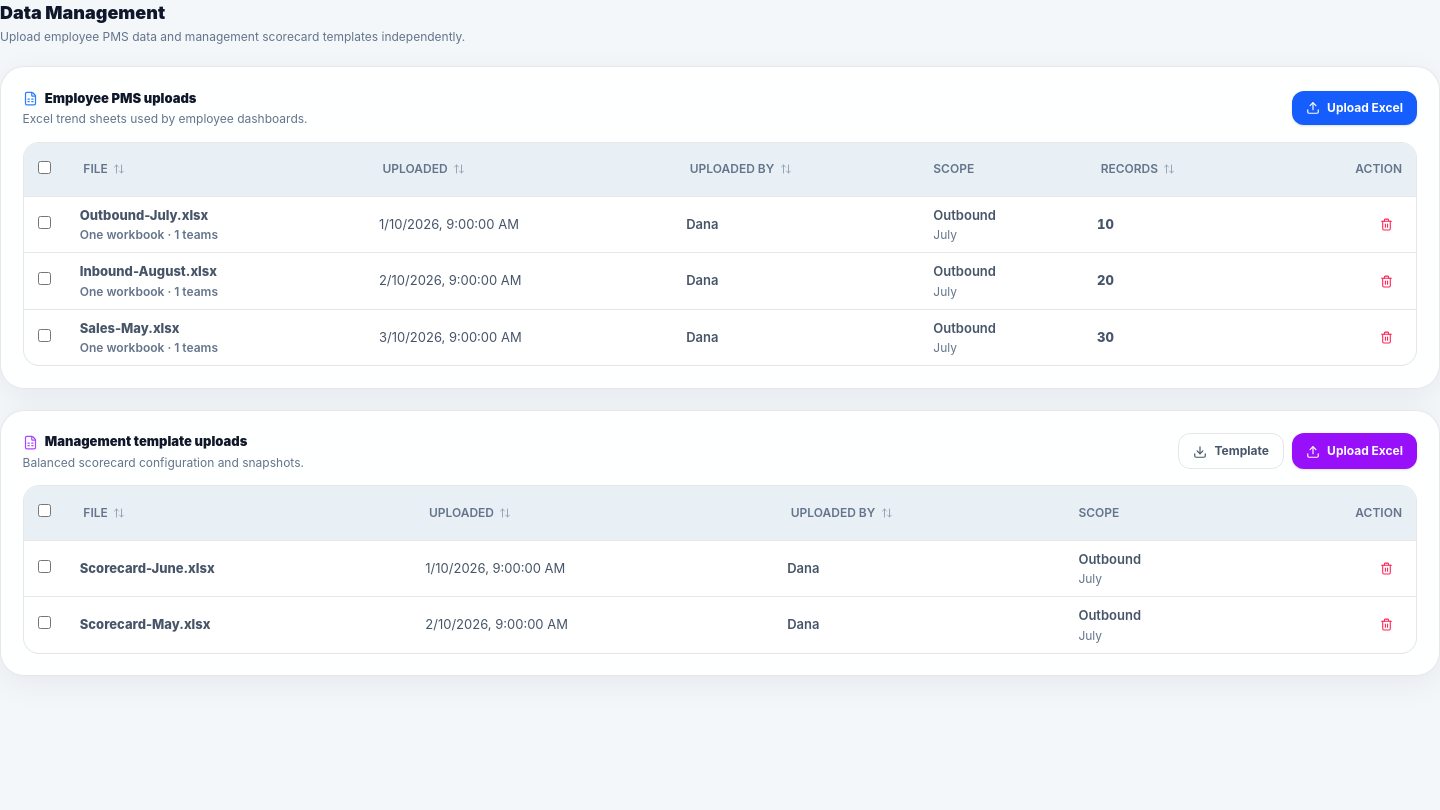
DataManagementPanel batch delete › shows a full-success notice with the count, clears the selection and reloads both lists
This screenshot has width=1440, height=810.
Click the checkbox named "Select Outbound-July.xlsx" at (44, 222), box [38, 216, 51, 229]
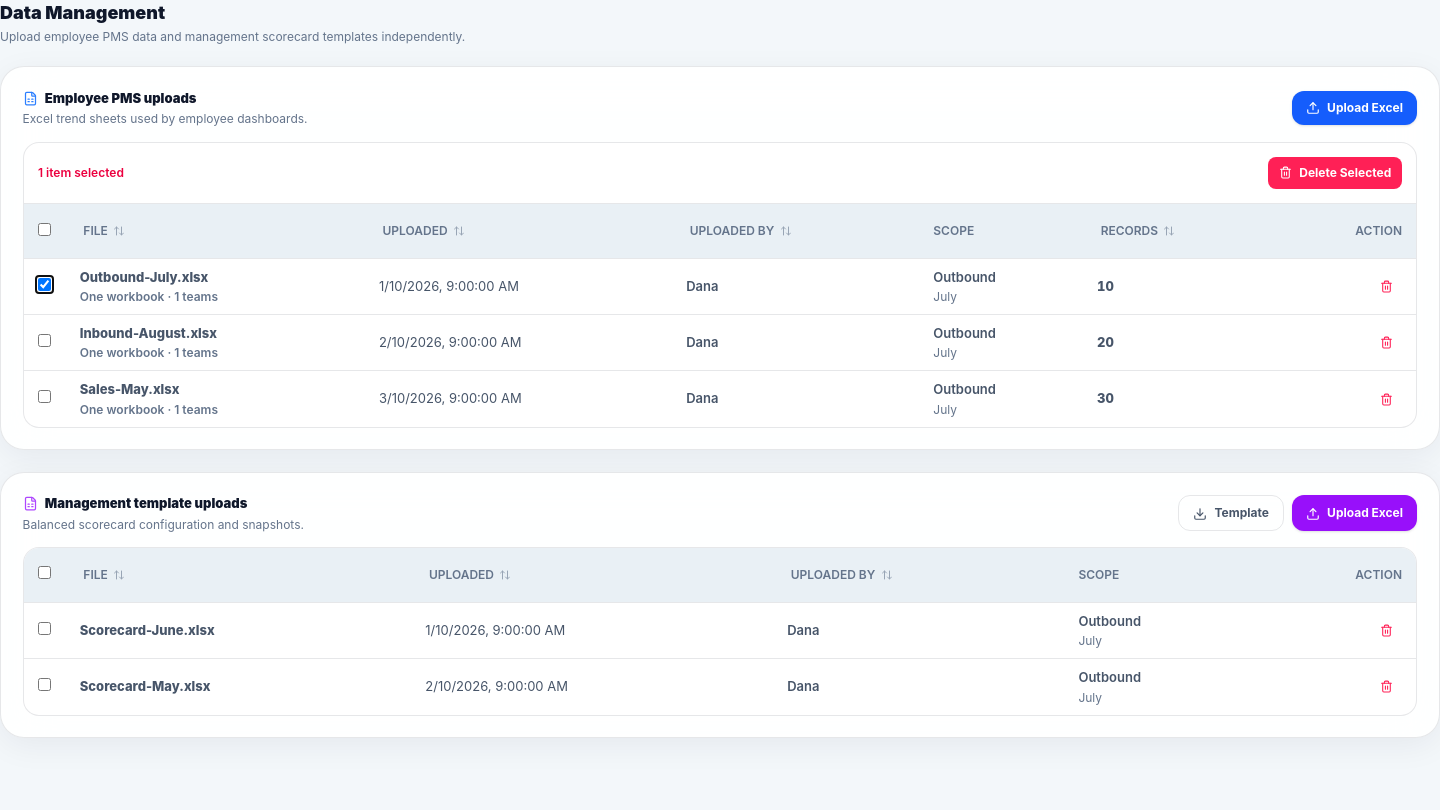
Click the checkbox named "Select Inbound-August.xlsx" at (44, 341), box [38, 334, 51, 347]
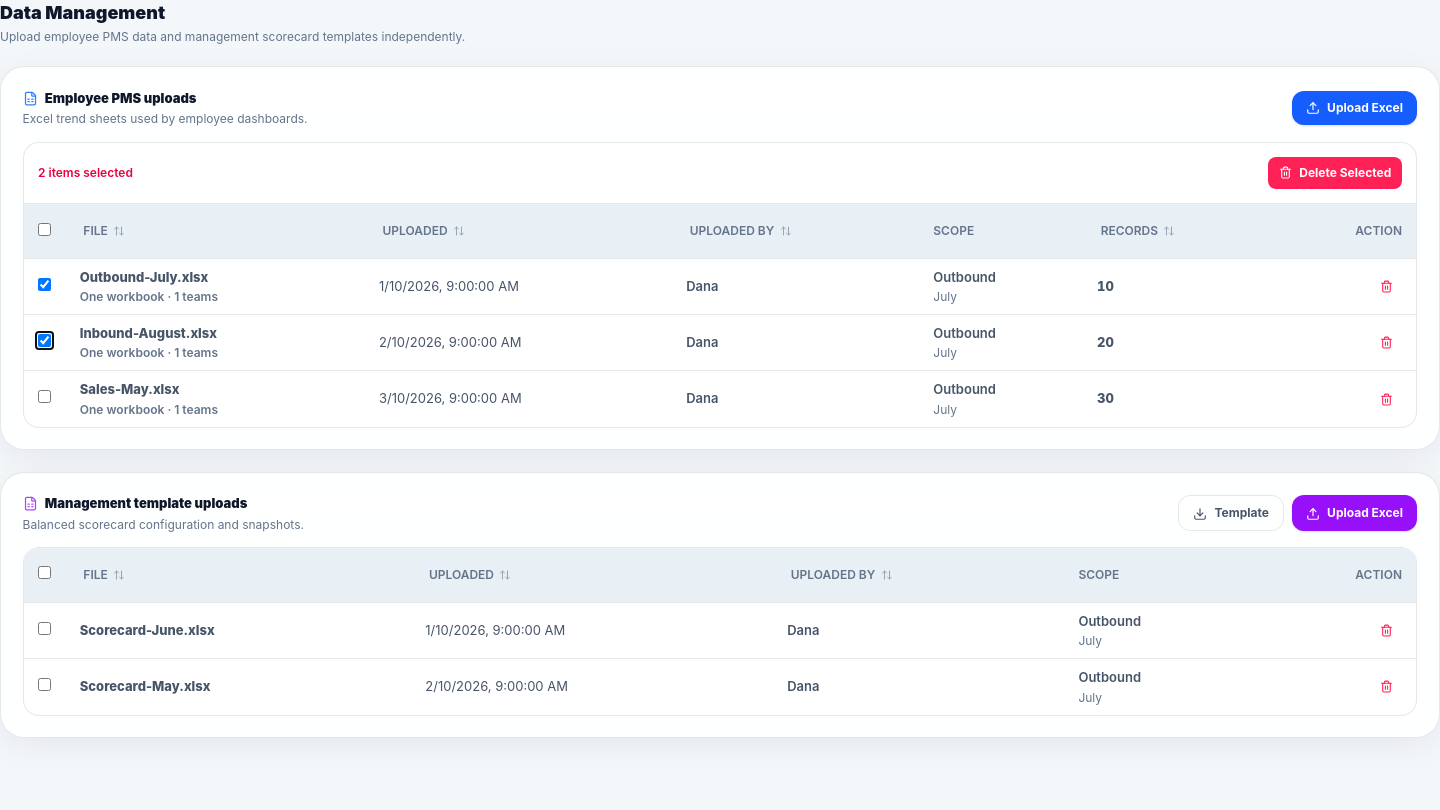
Click the button "Delete Selected" at (1335, 173), box [1268, 157, 1402, 189]
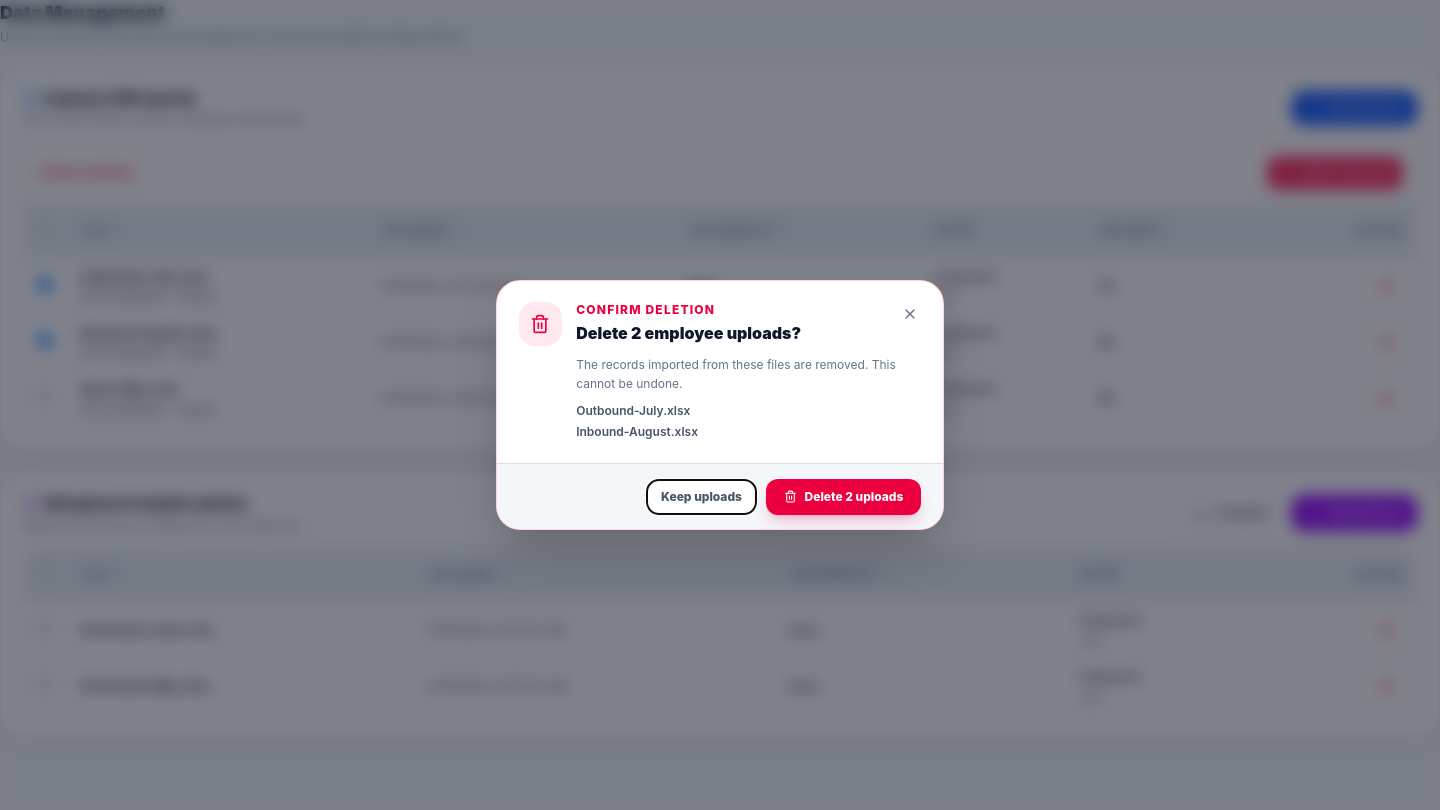
Click the button "Delete 2 uploads" at (844, 497), box [766, 479, 921, 515]
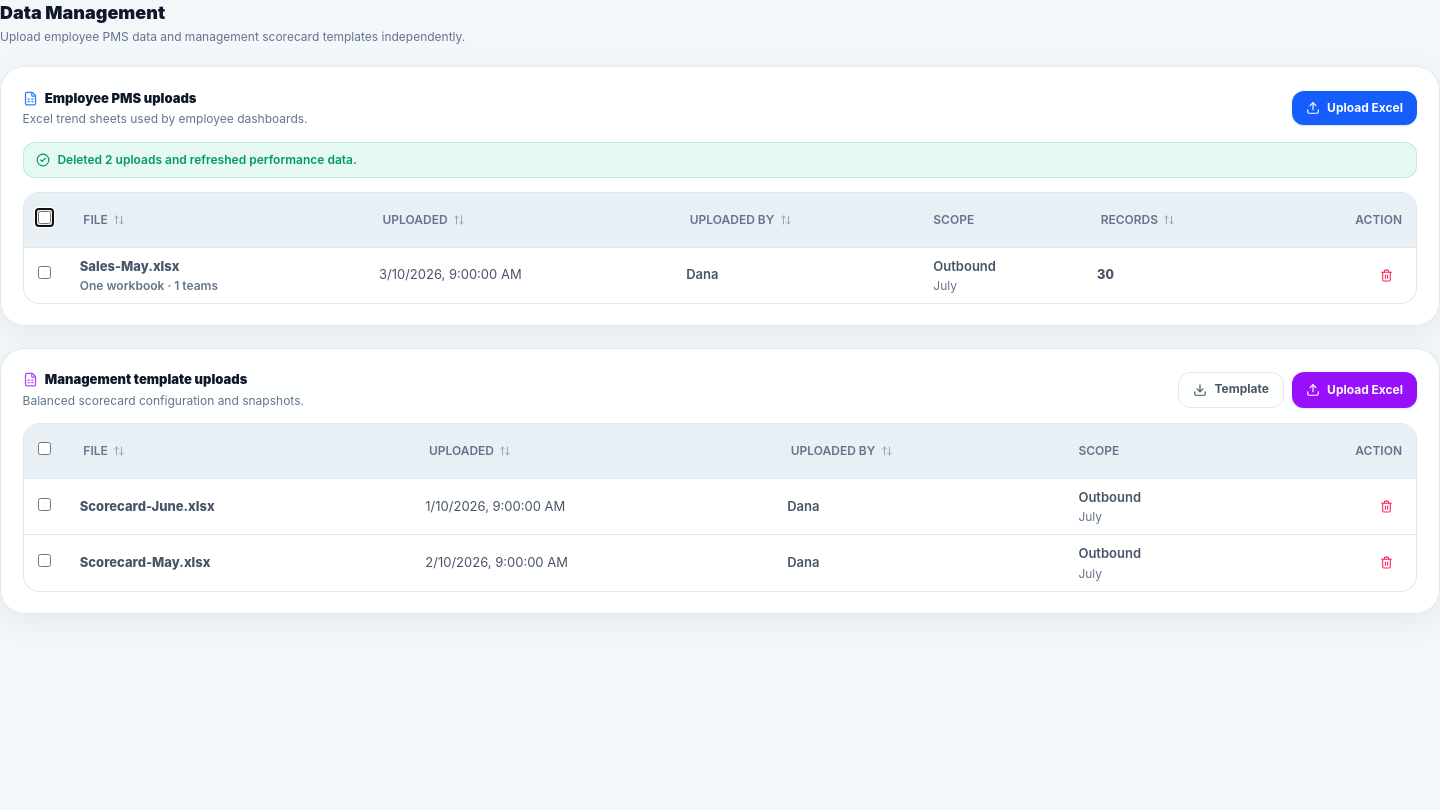
Now the message reads "Deleted 2 uploads and refreshed performance data.", box [57, 152, 357, 166]
Now the dialog is gone
Now the text "items selected" is gone
